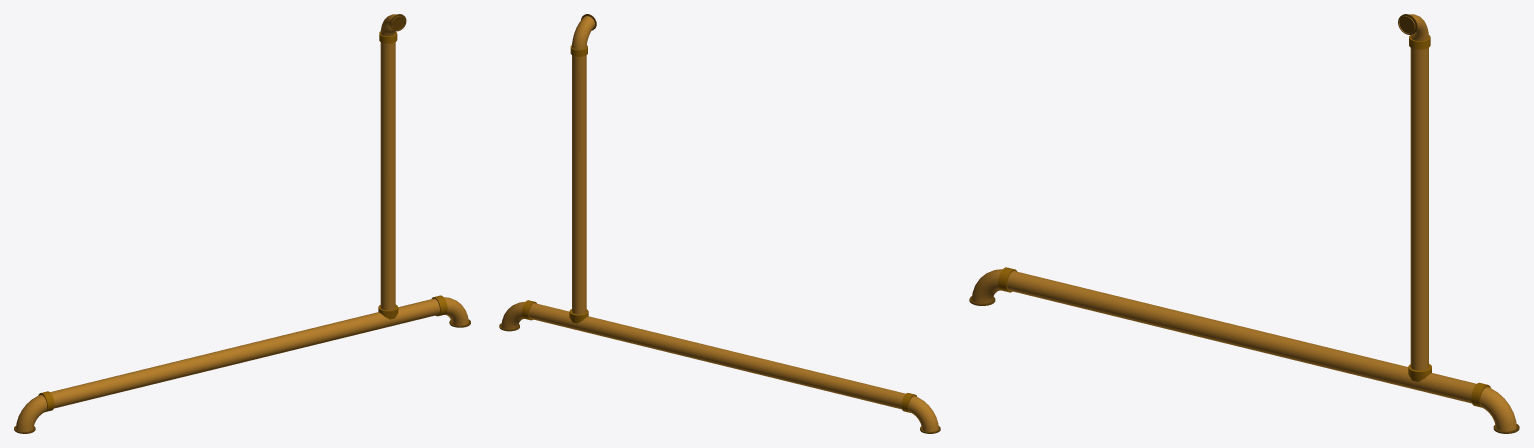
File: Pipes4.fbx
3 renders of one model, left to right at view 1: azimuth 30°, elevation 25°; view 2: azimuth 150°, elevation 25°; view 3: azimuth 330°, elevation 25°, orthographic. The views are drawn at different scales.
Parts seen in each view (by area): view 1: pCylinder12; view 2: pCylinder12; view 3: pCylinder12.
Boxes of the visible parts, x1,y1,x2,y2 form: pCylinder12: [14, 14, 470, 433]; pCylinder12: [499, 14, 940, 433]; pCylinder12: [969, 14, 1519, 433].
Size of the model in its own units: 1458 by 1026 by 89.95.
